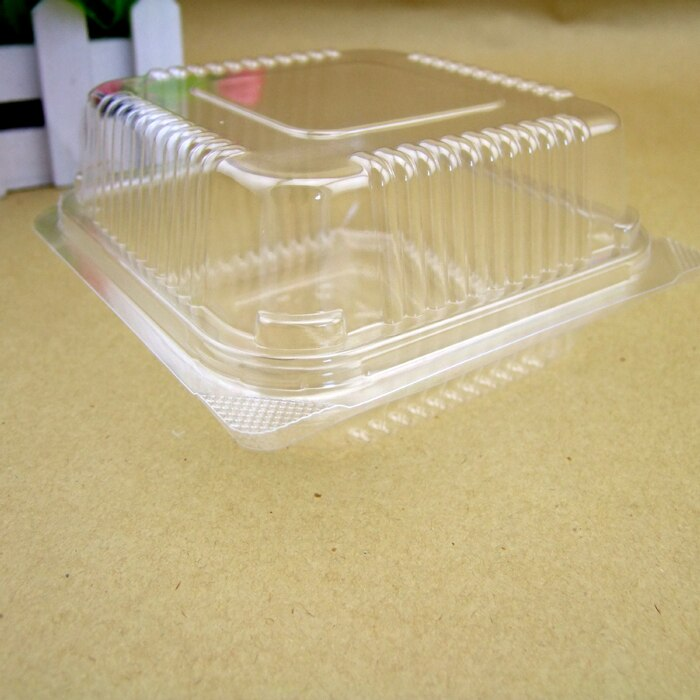PlasticBox: (27, 44, 700, 459)
